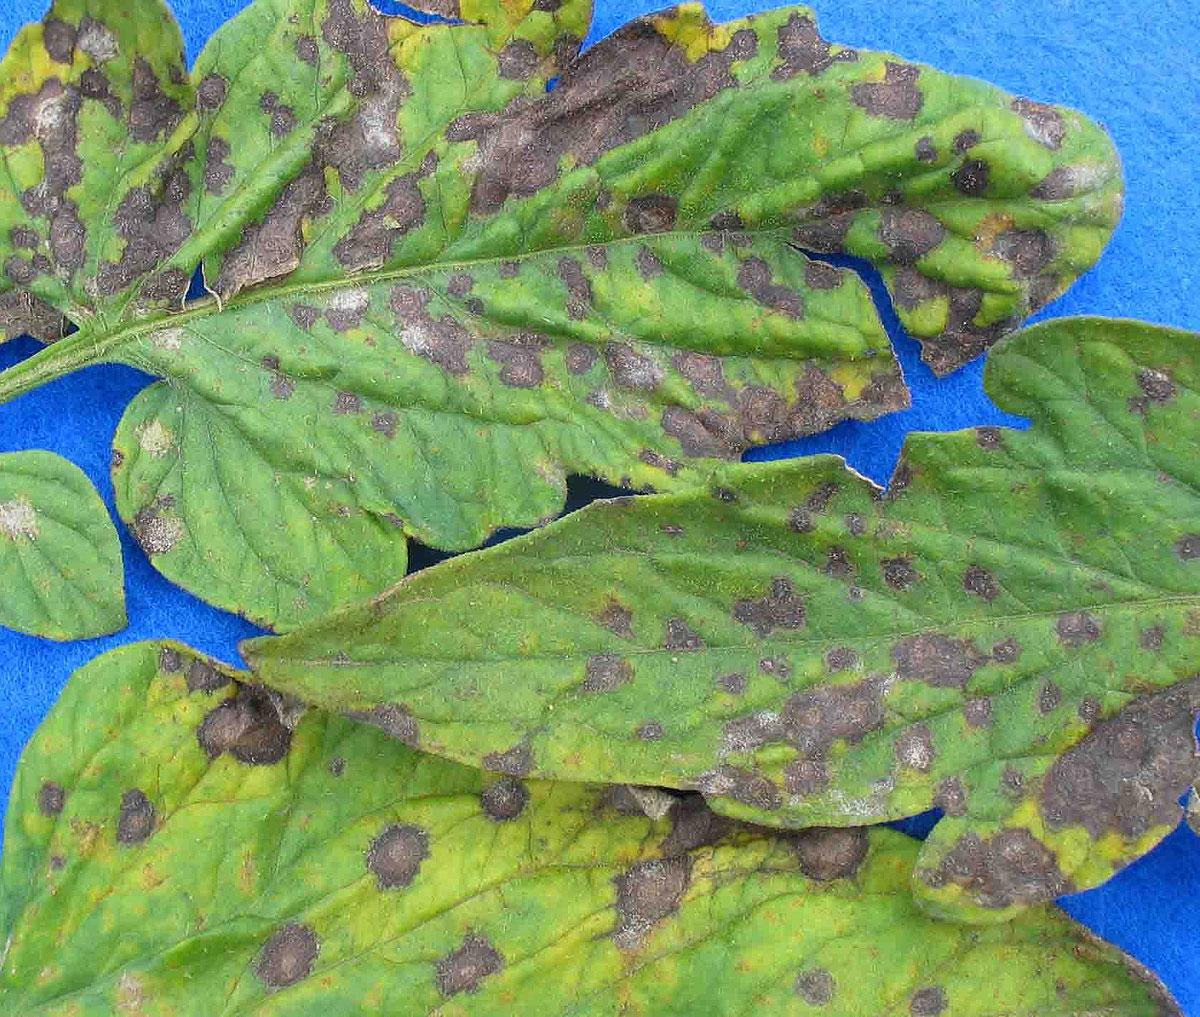Tomato Septoria leaf spot: (0, 23, 1146, 641), (211, 295, 1199, 926), (42, 603, 1181, 1017)
